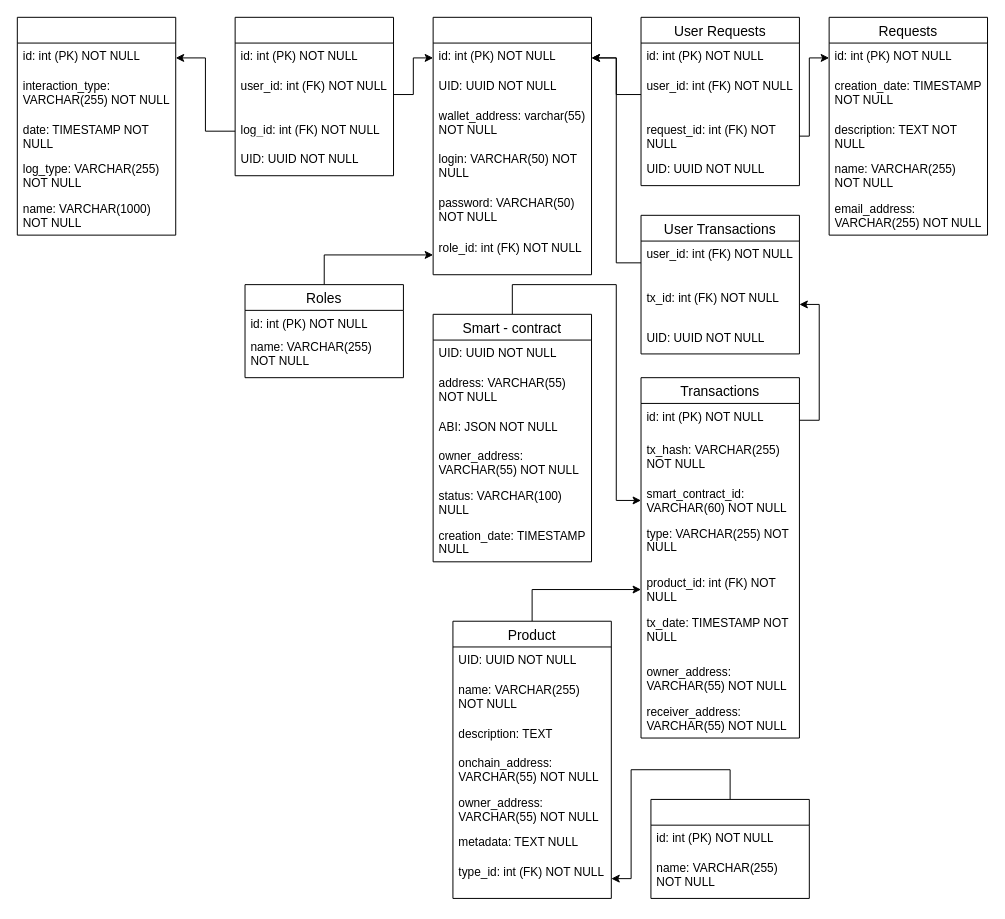
This 1005x919 diagram has some shape labels left out. Here are the shapes that lost their labels. From the top down, the box of each, then its label:
(234, 16, 394, 176): User Logs
(16, 16, 176, 235): Logs
(432, 16, 592, 275): Users
(650, 798, 809, 898): Product Type
